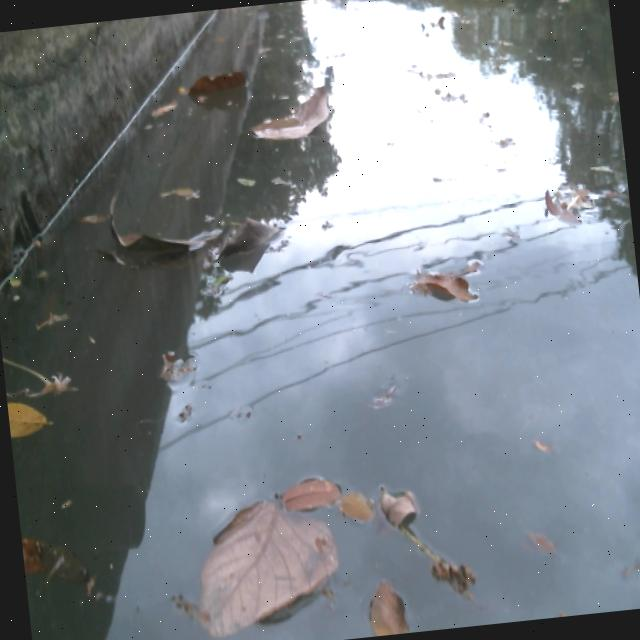Big-leaf: (181, 496, 337, 640), (96, 175, 201, 277), (248, 76, 340, 156), (205, 210, 280, 282), (177, 60, 252, 111)
Small-leaf: (410, 510, 489, 603), (19, 514, 90, 602), (1, 341, 75, 404), (358, 572, 417, 637), (406, 260, 476, 313), (539, 173, 594, 240), (271, 465, 343, 515), (362, 481, 424, 538), (151, 342, 204, 402), (6, 392, 54, 455), (357, 365, 409, 421), (515, 516, 561, 567), (328, 476, 373, 526), (145, 84, 184, 131), (413, 6, 455, 47), (63, 200, 110, 230), (524, 429, 560, 468), (29, 304, 71, 335), (231, 170, 258, 197), (269, 171, 295, 192)
